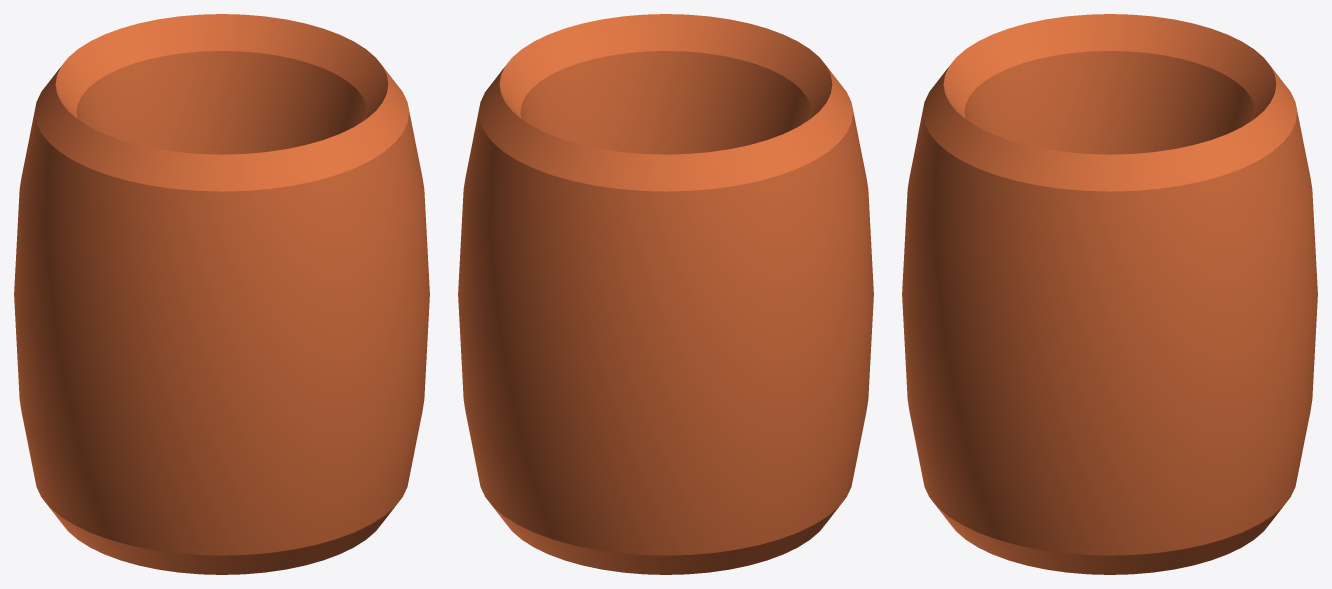
Rendered from cup.fbx.
The picture shows the model from 3 angles, left to right: view 1: azimuth 30°, elevation 25°; view 2: azimuth 150°, elevation 25°; view 3: azimuth 270°, elevation 25°; orthographic projection.
Visible parts, largest first — view 1: Torus; view 2: Torus; view 3: Torus.
Boxes of the visible parts, box(x1,y1,x2,y2) form: Torus: box(14, 14, 429, 574); Torus: box(458, 14, 873, 574); Torus: box(902, 14, 1317, 574).
Bounding box in the file's own units: 250 × 283 × 250.
